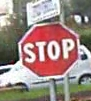stop: (16, 21, 79, 77)
